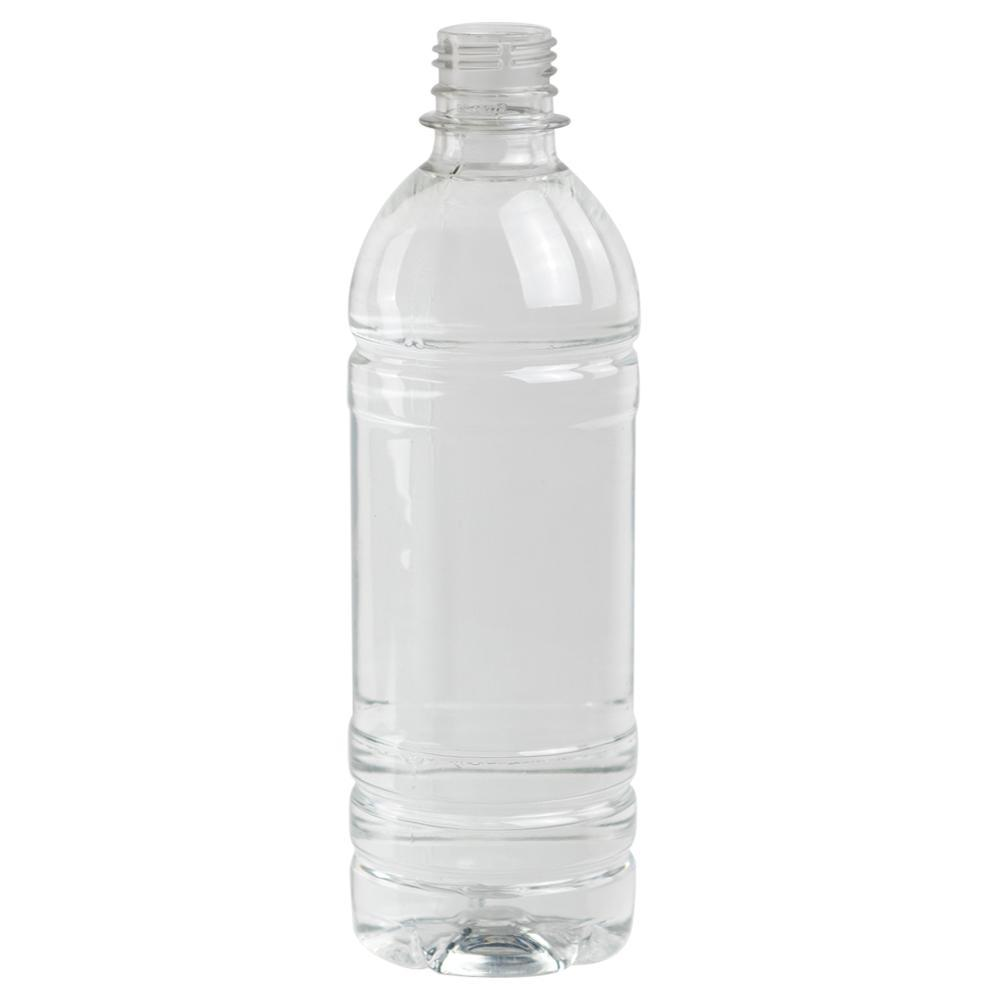bottle: (318, 0, 684, 991)
